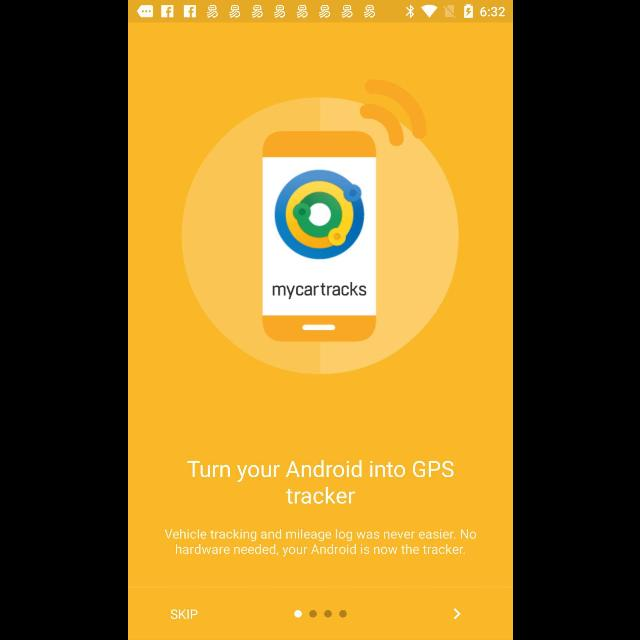icon: (452, 608, 460, 620)
image: (179, 78, 459, 376)
pageindicator: (294, 610, 346, 618)
text: (186, 460, 454, 504), (164, 528, 476, 556), (170, 608, 198, 620)
uppertaskbar: (128, 1, 512, 23)
